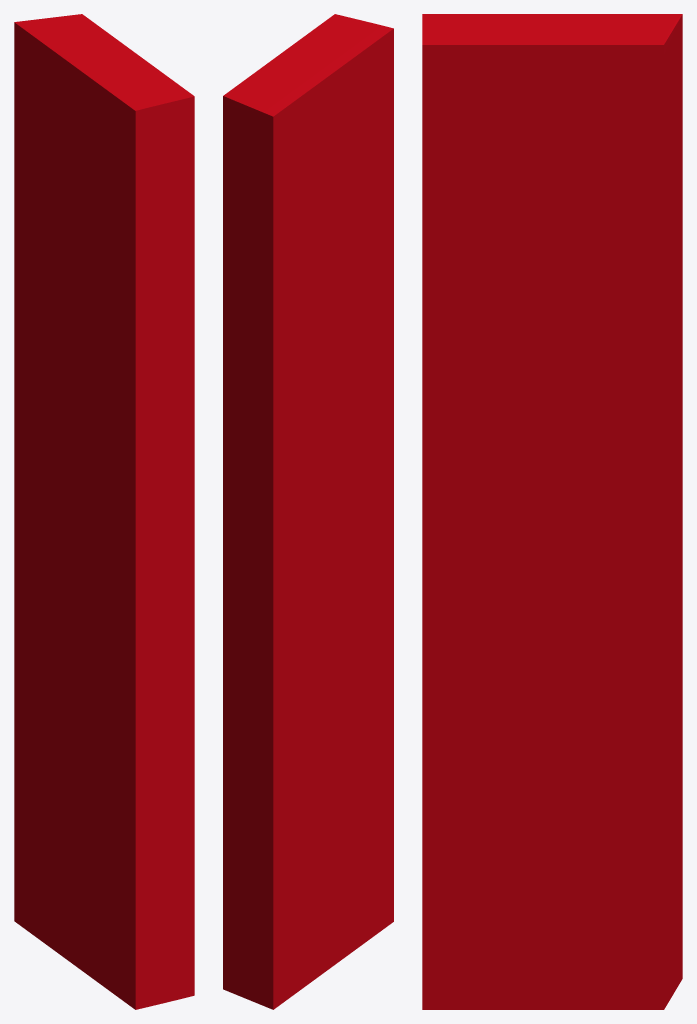
Rendered from simple_example_hole_part_113.obj.
3 renders of one model, left to right at view 1: azimuth 30°, elevation 25°; view 2: azimuth 150°, elevation 25°; view 3: azimuth 270°, elevation 25°, orthographic. The views are drawn at different scales.
Size of the model in its own units: 5.02 by 72.79 by 17.8.
